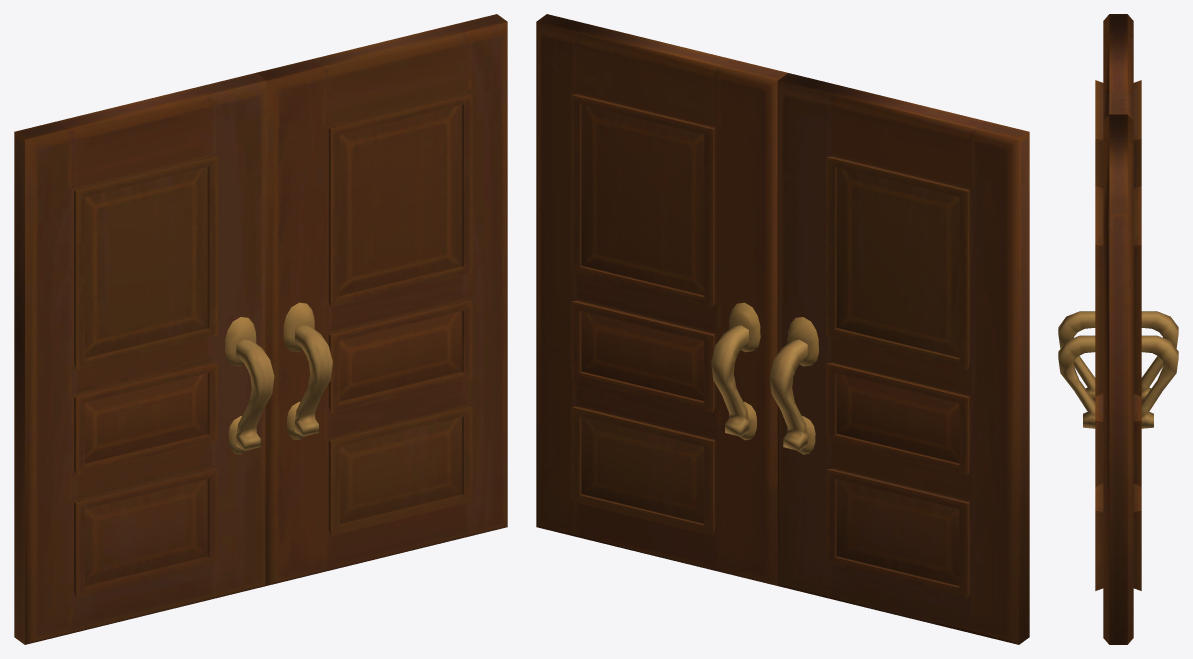
File: hq-office-door.glb
3 views of the same model, side by side, from view 1: azimuth 30°, elevation 25°; view 2: azimuth 150°, elevation 25°; view 3: azimuth 270°, elevation 25° (orthographic). The views are drawn at different scales.
Visible parts, largest first — view 1: DoorL__mDoor; view 2: DoorL__mDoor; view 3: DoorL__mDoor.
Part boxes in pixels (box(x1,y1,x2,y2)): DoorL__mDoor: box(14, 14, 507, 644); DoorL__mDoor: box(536, 14, 1029, 644); DoorL__mDoor: box(1058, 14, 1178, 644).
Size of the model in its own units: 18 by 18 by 4.57.
Materials: 1 (1 with a texture image).
